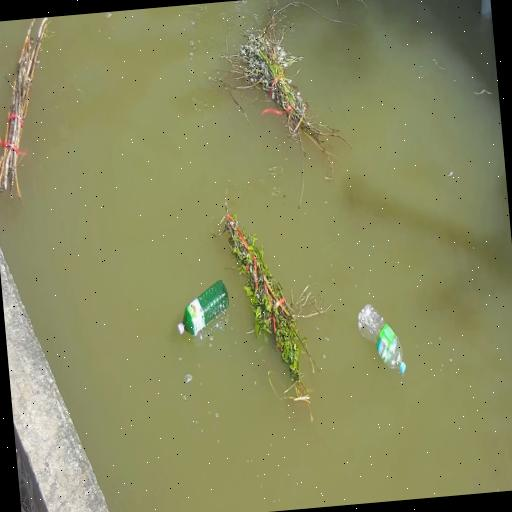plastic: (356, 300, 408, 380), (173, 280, 231, 340)
twig: (218, 207, 328, 389), (0, 23, 61, 202), (242, 25, 318, 160)
